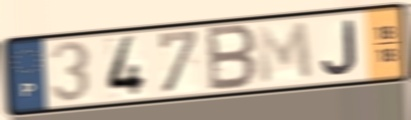3: (48, 38, 95, 106)
4: (104, 32, 149, 101)
7: (156, 29, 200, 97)
B: (206, 22, 259, 94)
J: (320, 18, 360, 77)
M: (254, 19, 316, 87)
